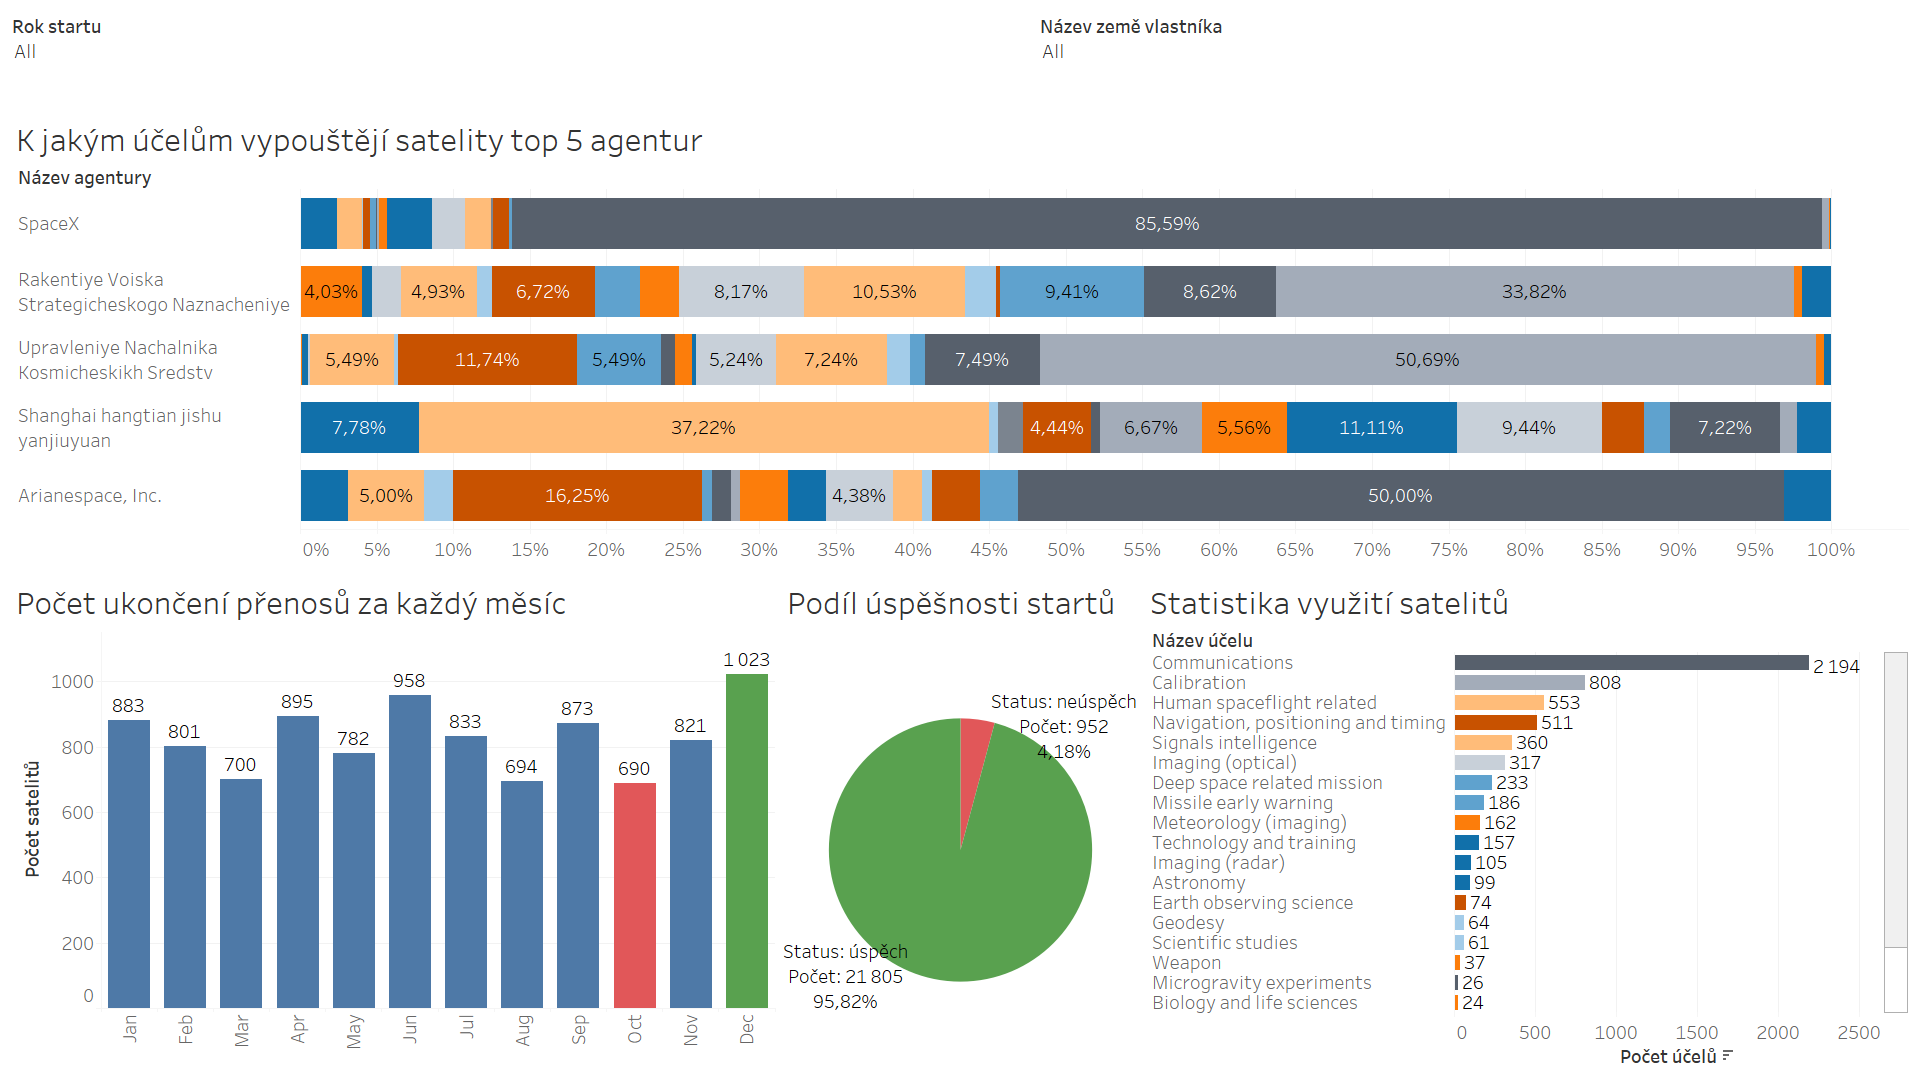

The dashboard page shown, as its layout file describes it:
{"tool":"tableau","page":{"name":"Dashboard 3","canvas":[1920,1080],"ordinal":2},"visuals":[{"type":"filter","title":"Celosvětový podíl úspěšnosti","param":"[federated.0weyjfg1raaq6l1bj7h471vbckyf].[yr:DATE_OF_LAUNCH:ok]","box":[8,8,1027.9,70]},{"type":"filter","title":"Celosvětový podíl úspěšnosti","param":"[federated.0weyjfg1raaq6l1bj7h471vbckyf].[none:UPDATED_FULL_NAME:nk]","box":[1036,8,876,100.4]},{"type":"worksheet","title":"K jakým účelům vypouštějí satelity top 5 agentur","mark":"Automatic","rows":["AGENCY_FULL_NAME"],"box":[8,108.4,1904,462.6]},{"type":"worksheet","title":"Počet ukončení přenosů za každý měsíc","mark":"Bar","rows":["Calculation_2840926955092996099"],"cols":["MONTH_NAME"],"box":[8,571,771.4,501]},{"type":"worksheet","title":"Celosvětový podíl úspěšnosti","mark":"Pie","box":[779.4,571,362.6,501]},{"type":"worksheet","title":"Statistika využití satelitů","mark":"Automatic","rows":["PURPOSE_NAME"],"cols":["Calculation_2840926955077947392"],"box":[1142,571,770,501]}]}

Visuals, with their boxes in screenshot pixels (x1, y1, x2, y2), scaled from the page's 1920x1080 canvas onto the 1920x1080 screenshot:
"Celosvětový podíl úspěšnosti" filter: [8,8,1036,78]
"Celosvětový podíl úspěšnosti" filter: [1036,8,1912,108]
"K jakým účelům vypouštějí satelity top 5 agentur" worksheet: [8,108,1912,571]
"Počet ukončení přenosů za každý měsíc" worksheet (Bar marks): [8,571,779,1072]
"Celosvětový podíl úspěšnosti" worksheet (Pie marks): [779,571,1142,1072]
"Statistika využití satelitů" worksheet: [1142,571,1912,1072]
